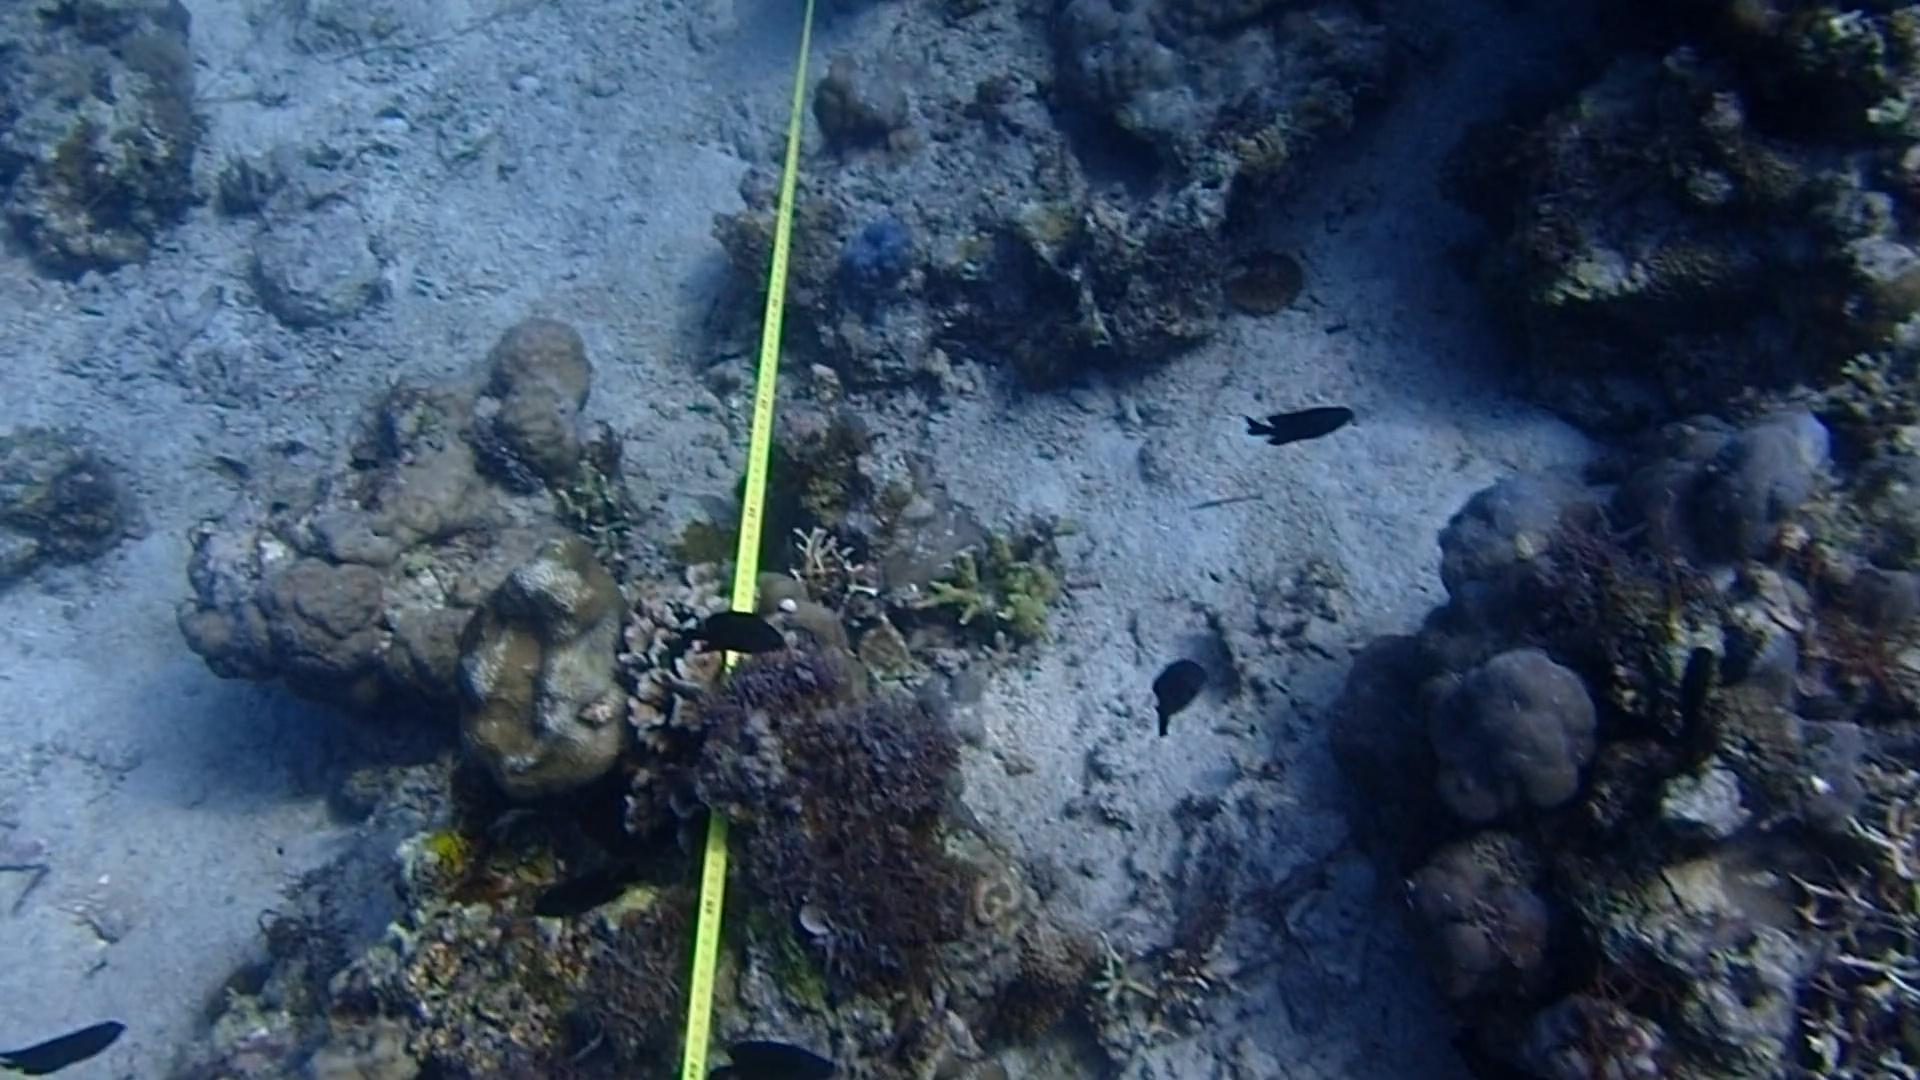Dark Fish: (1662, 633, 1737, 765), (533, 856, 642, 938), (11, 1015, 137, 1080), (680, 603, 799, 670), (1250, 396, 1362, 459), (708, 1030, 849, 1080), (1137, 655, 1212, 742)
Light Fish: (216, 142, 274, 206)
